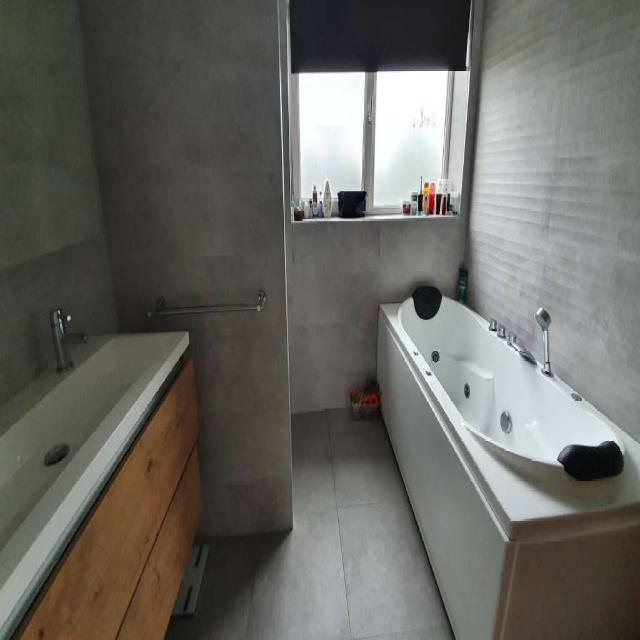bath: (376, 290, 640, 640)
wastafel: (0, 303, 191, 640), (13, 353, 204, 640)
